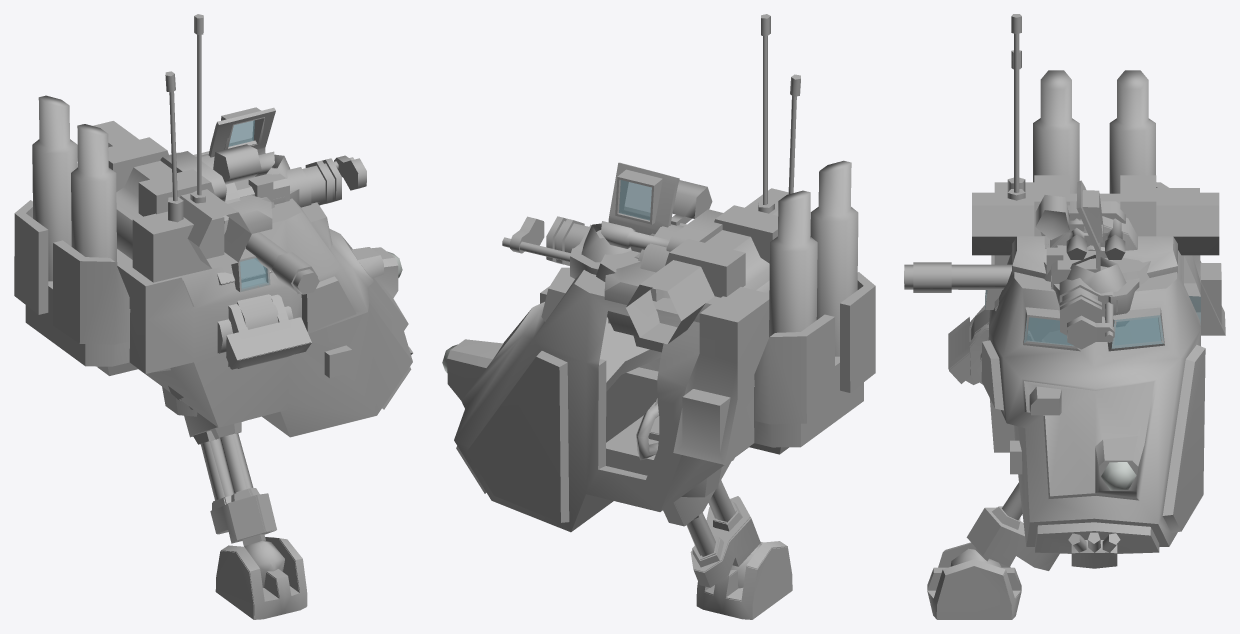
File: sentinel_ac-1mhlexc.glb
3 views of the same model, side by side, from view 1: azimuth 30°, elevation 25°; view 2: azimuth 150°, elevation 25°; view 3: azimuth 270°, elevation 25° (orthographic). The views are drawn at different scales.
Parts seen in each view (by area): view 1: turret, turret_interior, body, legr3, gun_rot, legl2, legl3, legl4, legr4, door, gun, legl1 (+1 smaller); view 2: turret, turret_interior, body, legr3, door, legr4, legl3, gun_rot, legl1, legl4; view 3: turret, turret_interior, body, legl4, gun_rot, legl3, gun, door, legr2, legl2, legl1, legr1.
Boxes of the visible parts, <box> form: turret: <box>14,14,412,437</box>; turret_interior: <box>14,96,412,436</box>; body: <box>77,121,299,268</box>; legr3: <box>190,421,275,587</box>; gun_rot: <box>234,155,366,207</box>; legl2: <box>168,294,310,409</box>; legl3: <box>184,412,284,571</box>; legl4: <box>221,537,307,619</box>; legr4: <box>215,537,306,619</box>; door: <box>208,107,275,157</box>; gun: <box>245,232,319,294</box>; legl1: <box>196,154,278,329</box>; turret: <box>442,14,875,532</box>; turret_interior: <box>448,162,875,531</box>; body: <box>570,188,810,352</box>; legr3: <box>636,415,760,588</box>; door: <box>608,162,679,323</box>; legr4: <box>696,547,792,619</box>; legl3: <box>636,404,761,571</box>; gun_rot: <box>502,216,604,265</box>; legl1: <box>638,224,683,272</box>; legl4: <box>696,541,791,600</box>; turret: <box>981,14,1225,568</box>; turret_interior: <box>982,70,1225,553</box>; body: <box>972,175,1219,326</box>; legl4: <box>927,542,1020,619</box>; gun_rot: <box>1029,245,1117,349</box>; legl3: <box>950,482,1058,568</box>; gun: <box>904,262,1011,292</box>; door: <box>1076,180,1103,271</box>; legr2: <box>949,318,1043,384</box>; legl2: <box>948,305,1044,369</box>; legl1: <box>970,216,1137,340</box>; legr1: <box>974,226,1137,341</box>.
Bounding box in the file's own units: 46.98 × 70.9 × 36.15.
